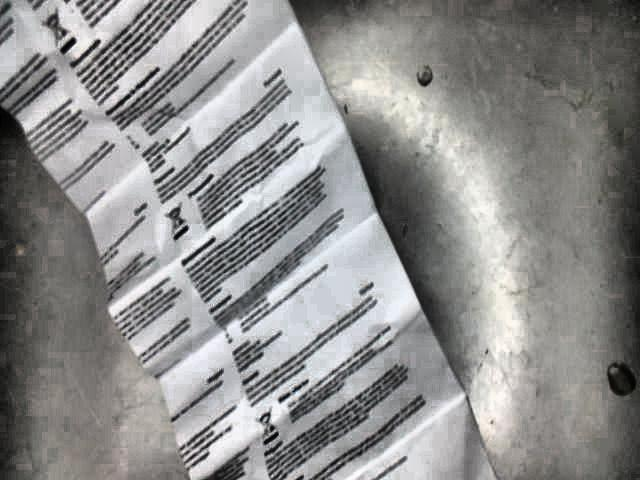Paper: (0, 2, 497, 480)
